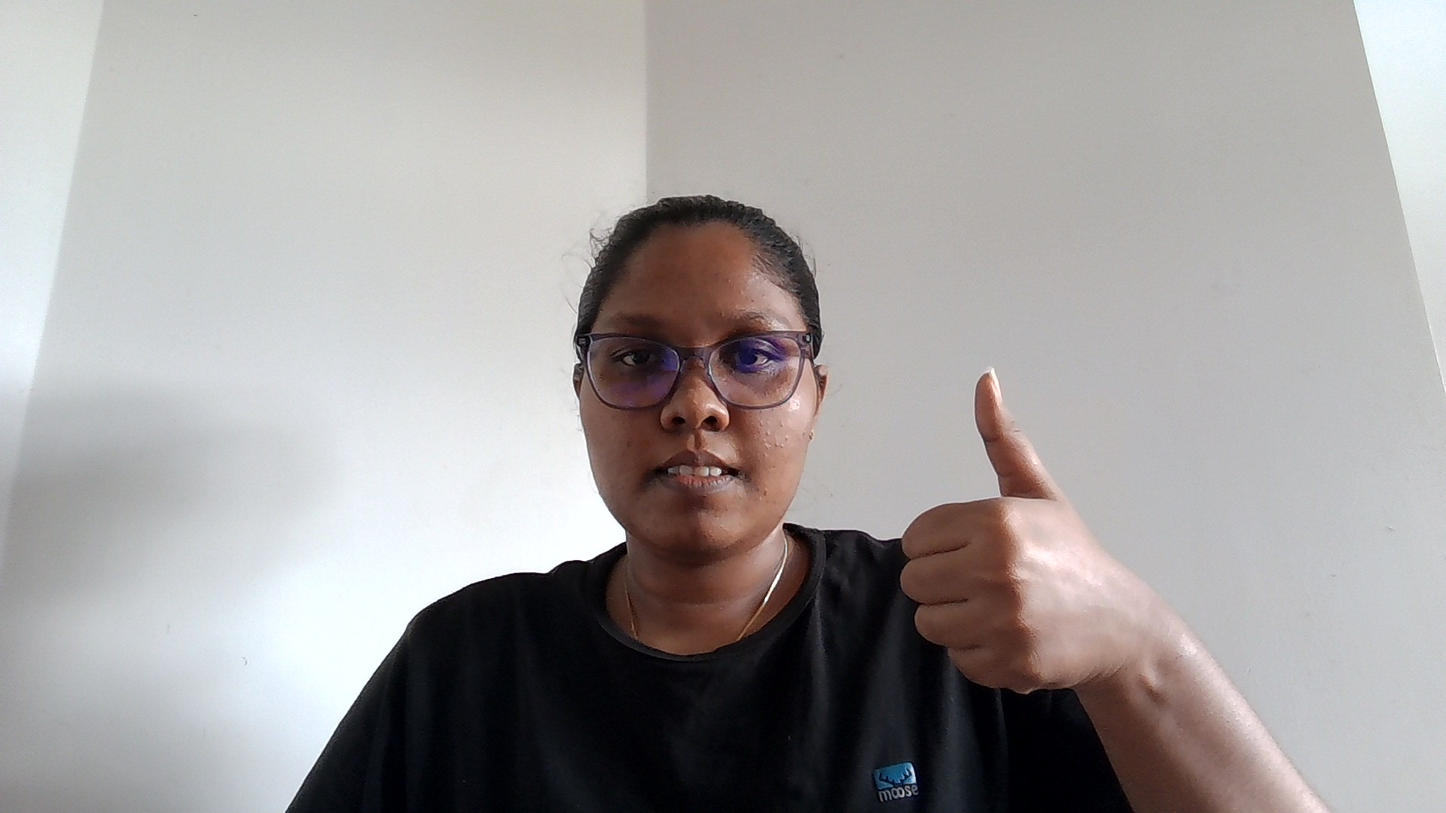Thumbs Up: (876, 343, 1231, 775)
